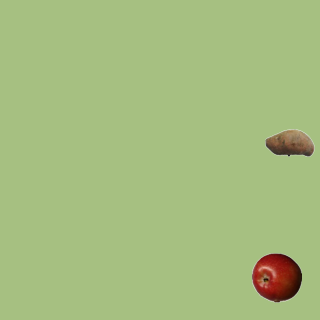Apple Braeburn: (251, 252, 301, 302)
Potato Sweet: (264, 117, 314, 167)
